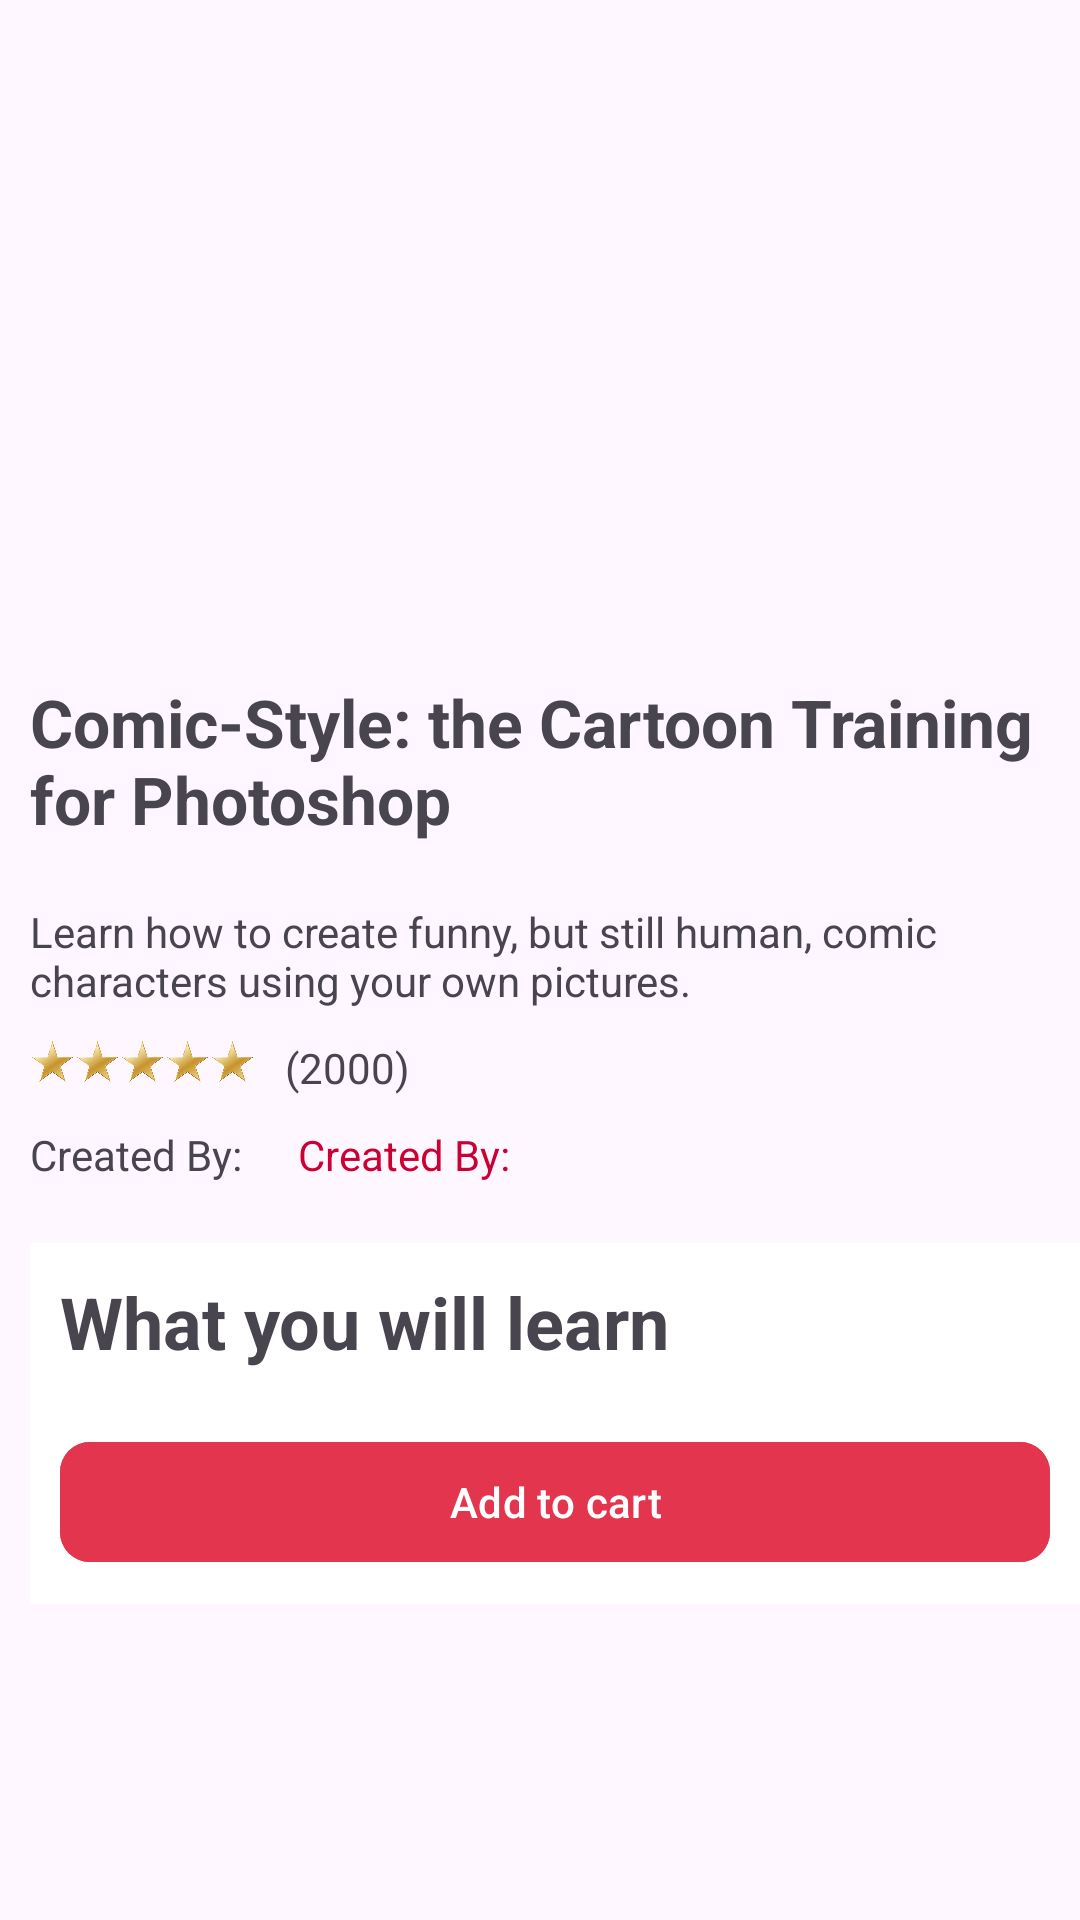

Named icons in this screenshot (1080 × 1920) and their bounding boxes, BBox(x1, y1, x2, y2):
star: BBox(32, 1041, 73, 1082), BBox(77, 1041, 118, 1082), BBox(122, 1041, 163, 1082), BBox(167, 1041, 208, 1082), BBox(212, 1041, 253, 1082)
